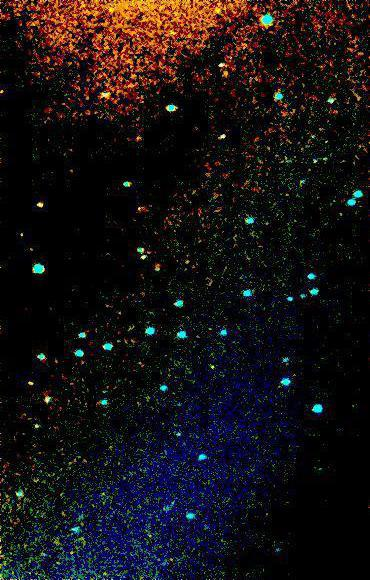star: (198, 352, 228, 382)
